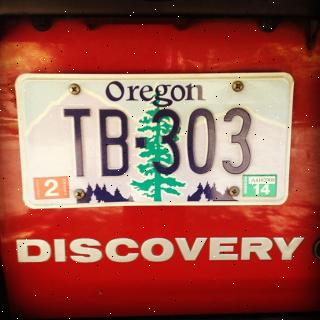license: (13, 71, 294, 211)
